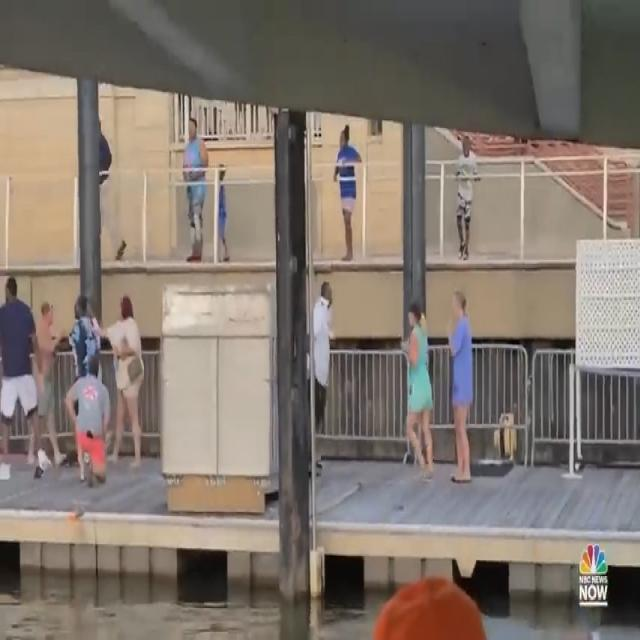fight: (1, 263, 148, 496)
